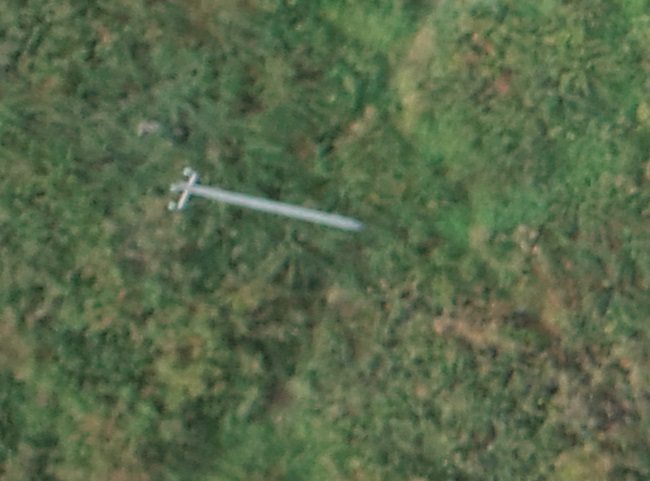opora: (168, 164, 367, 235)
